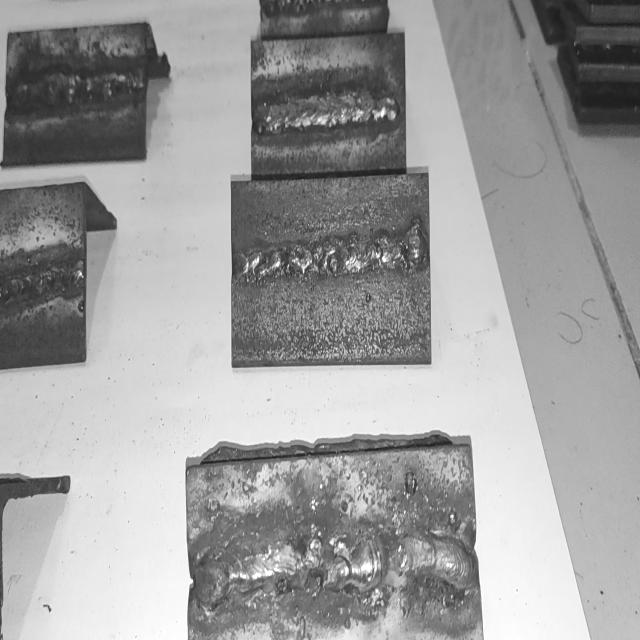Bad Weld: (192, 532, 472, 602)
Defect: (364, 512, 430, 610), (277, 532, 348, 608)
Good Weld: (238, 225, 430, 282), (8, 65, 146, 116), (256, 93, 402, 133), (4, 260, 84, 304)
